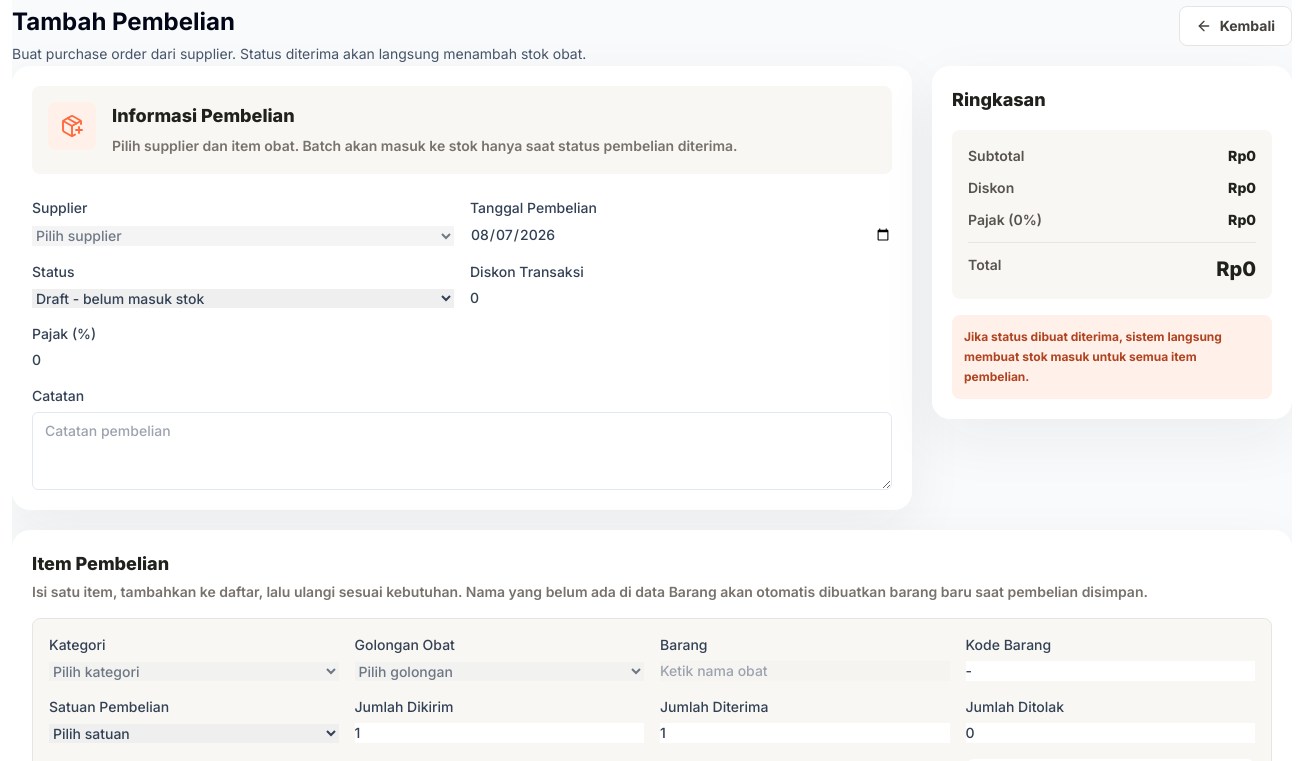
PembelianForm › shows an automatic batch number in each purchase row
In the field labelled "Barang": point(805, 671) [660,661,950,681], type "Vitamin C Baru"
(page scrolled)
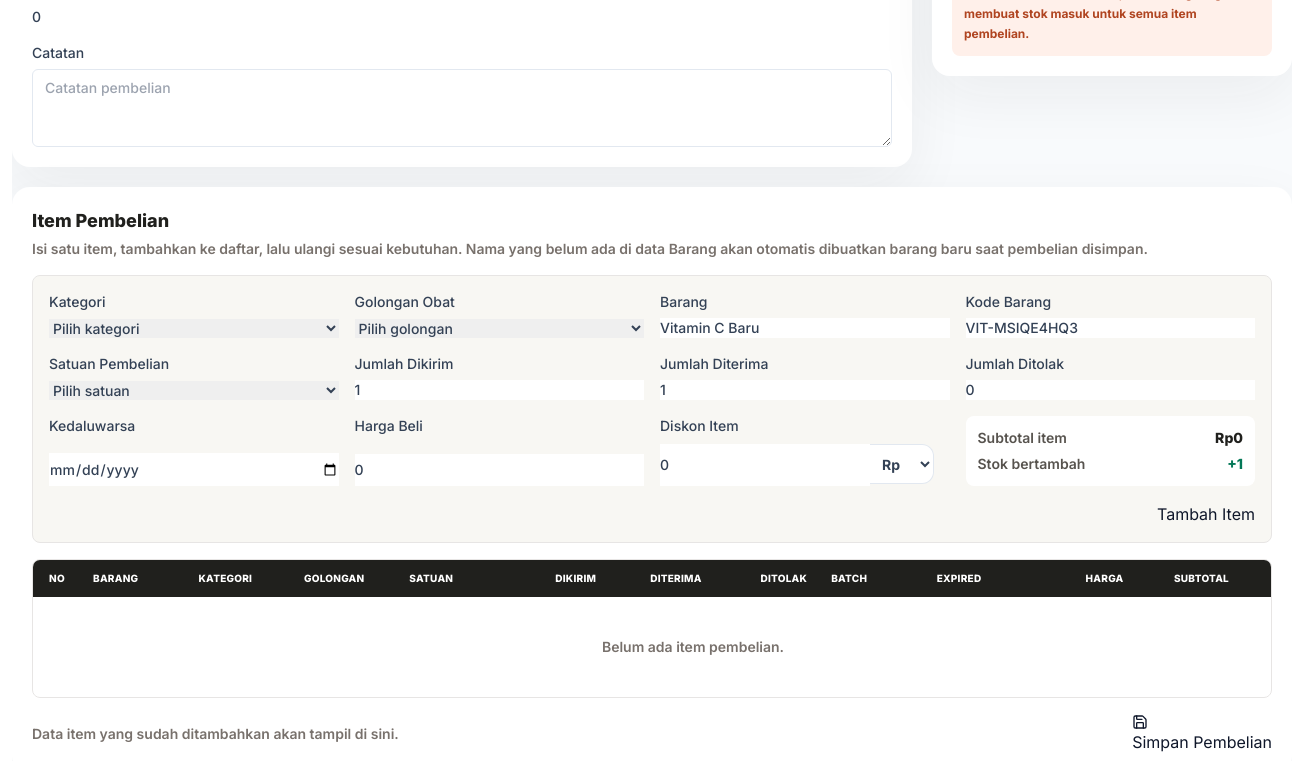
Click the button "Tambah Item": point(1206, 514) [1157,502,1255,526]
(page scrolled)
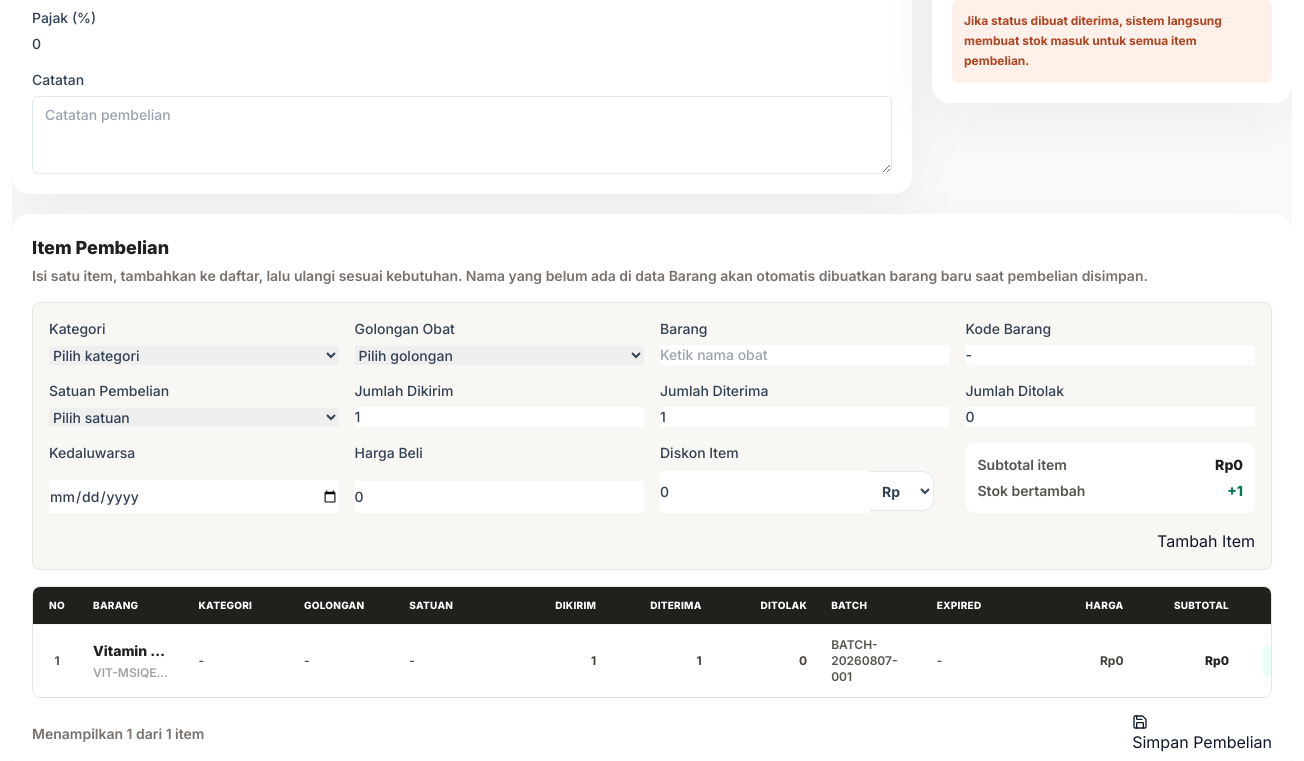
Expected: the text "BATCH-20260807-001" is shown, [819,624,925,696]
